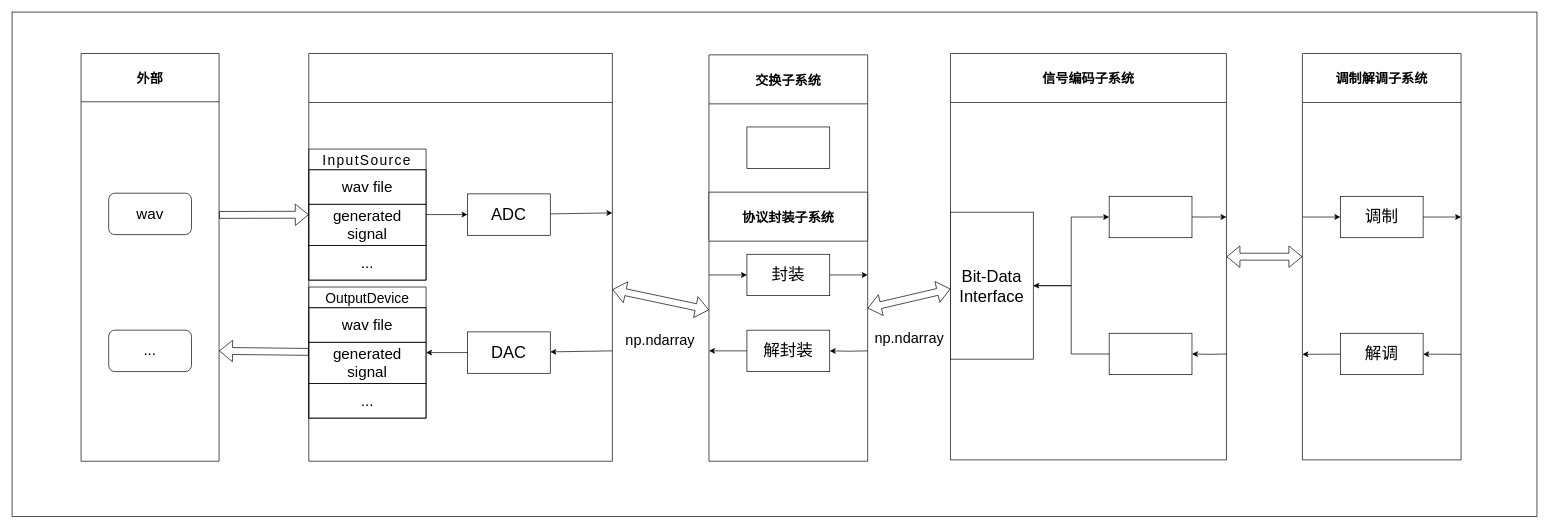
Image size: 1549x529. Some labels were removed from this diagram. Each missing label, with the centre of its shape:
加密: the point at 1150,217
解密: the point at 1150,354
路由决策: the point at 788,147
输入输出子系统: the point at 460,257
